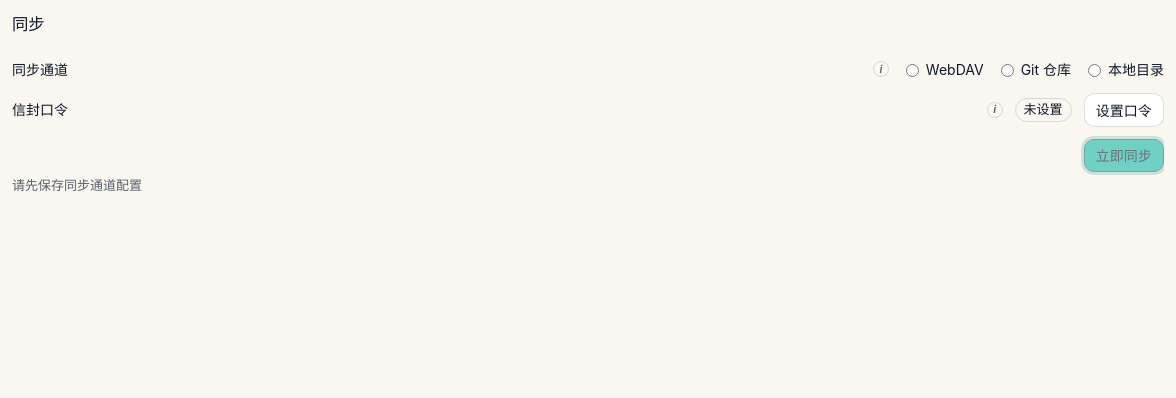
Test case: SyncSettings › git：repoUrl 注入形态拒绝；合法 https + token → 测试连接经桥且 URL 内嵌 token
Step 1. Click the radio button with test id "sync-channel-git" → (1007, 71), box x1=1001 y1=64 x2=1014 y2=77
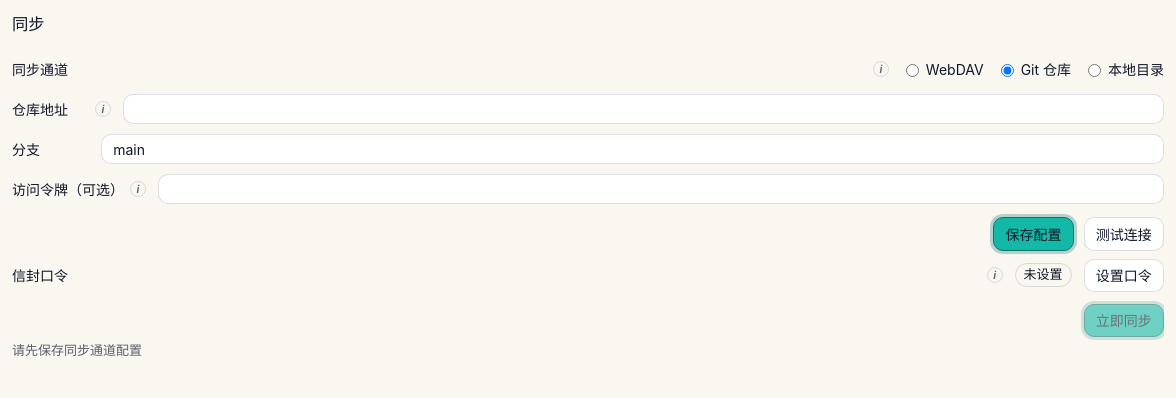
Step 2. Type "ext::sh -c x" into the field with test id "sync-git-repourl" → (644, 109), box x1=123 y1=94 x2=1164 y2=124
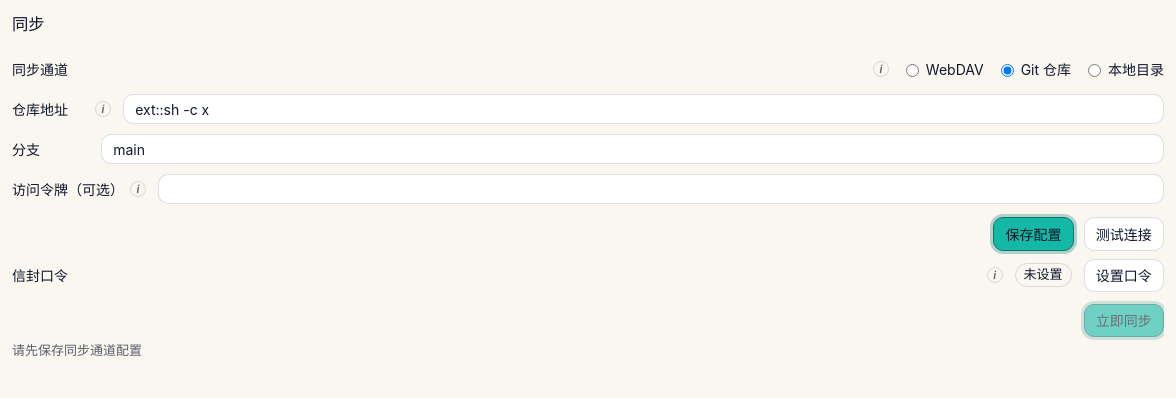
Step 3. Click the button with test id "sync-save" → (1034, 234), box x1=993 y1=217 x2=1074 y2=250
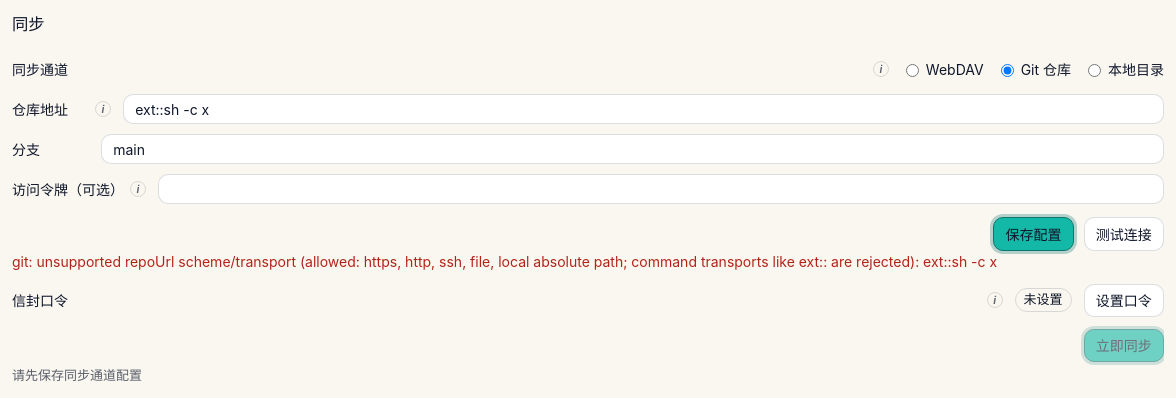
Check: the text with test id "sync-form-error" shows "scheme", box x1=12 y1=252 x2=997 y2=270
Step 4. Replace the text in the field with test id "sync-git-repourl" with "https://github.com/u/r.git" → (644, 109), box x1=123 y1=94 x2=1164 y2=124
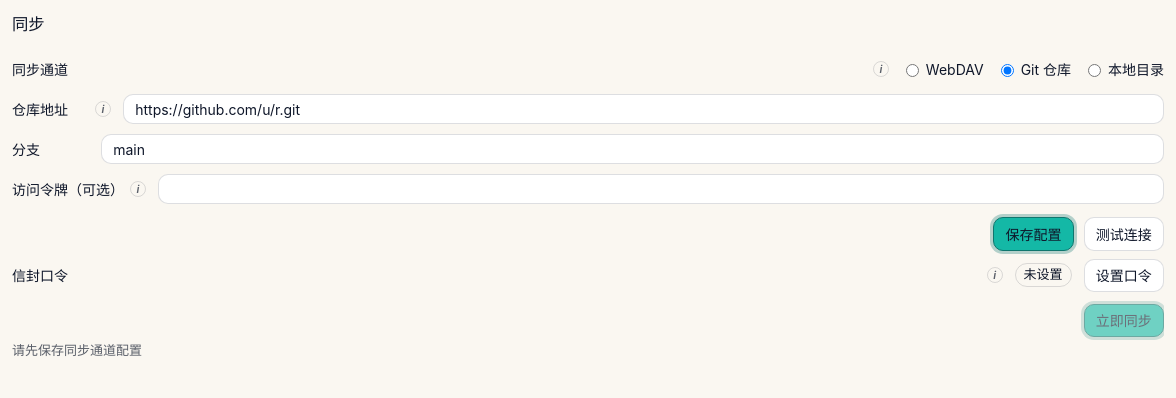
Step 5. Type "T0K" into the password field with test id "sync-git-token" → (661, 189), box x1=158 y1=174 x2=1164 y2=204
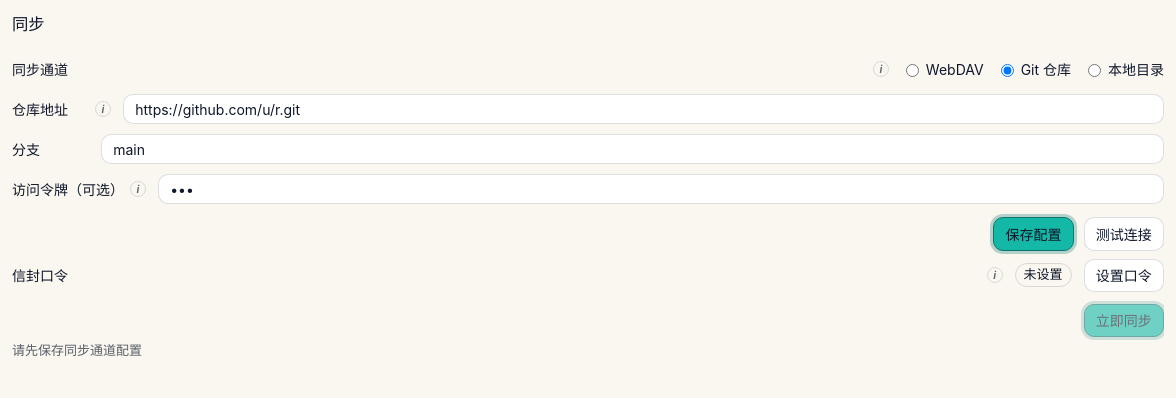
Step 6. Click the button with test id "sync-test" → (1124, 234), box x1=1084 y1=217 x2=1164 y2=250
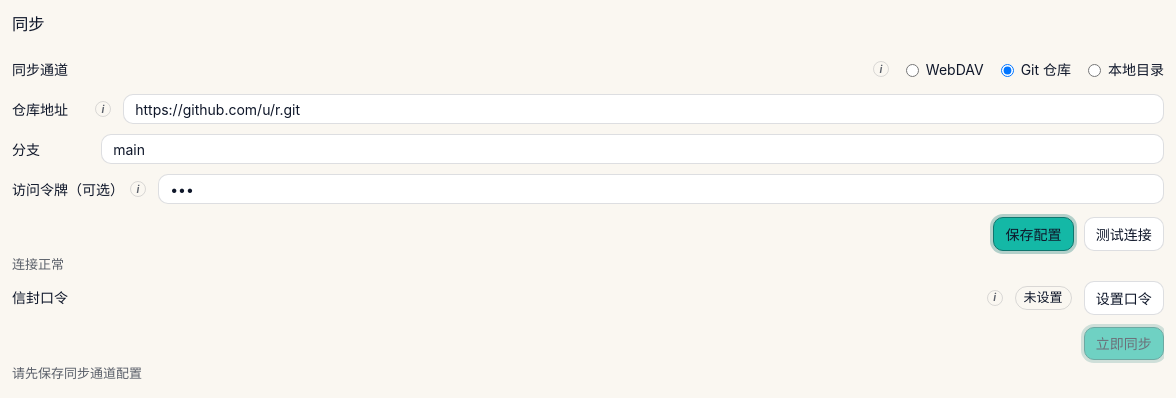
Check: the text with test id "sync-test-result" reads "连接正常", box x1=12 y1=256 x2=64 y2=272
